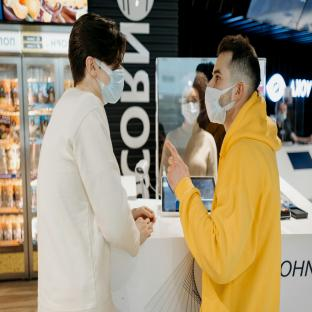Human: (37, 13, 155, 312), (167, 35, 281, 312)
